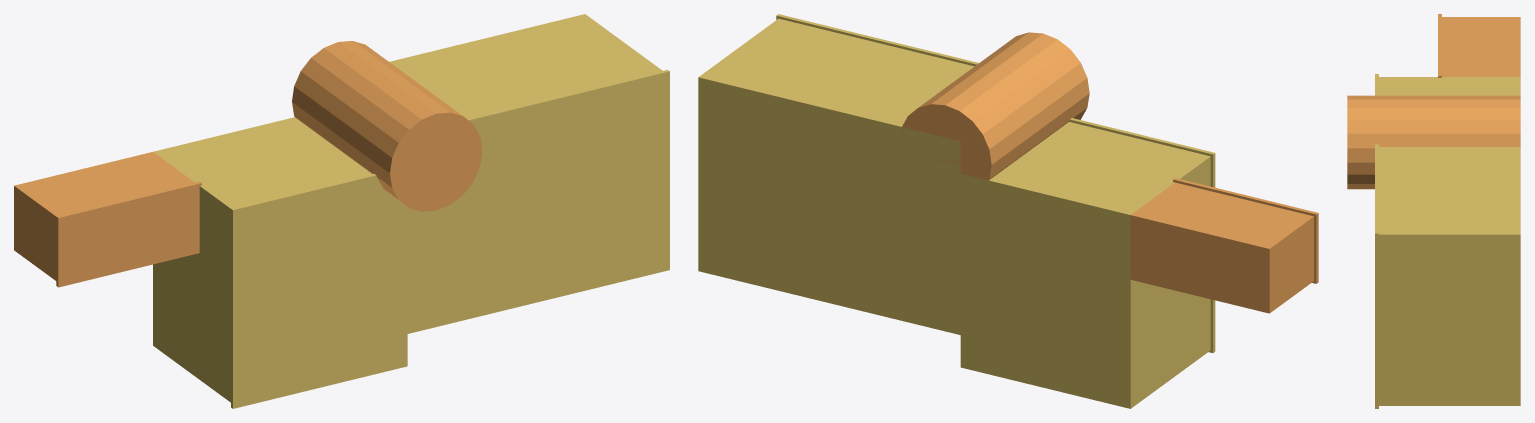
File: modelo.obj
3 renders of one model, left to right at view 1: azimuth 30°, elevation 25°; view 2: azimuth 150°, elevation 25°; view 3: azimuth 270°, elevation 25°, orthographic. The views are drawn at different scales.
Parts seen in each view (by area): view 1: cuerpo_B_cornisa_3, cuerpo_A_cornisa_1, cuerpo_A_0, remate_curvo_6, cuerpo_B_2, conexion_cornisa_5, conexion_4; view 2: cuerpo_B_2, cuerpo_A_0, conexion_4, remate_curvo_6, cuerpo_A_cornisa_1, conexion_cornisa_5, cuerpo_B_cornisa_3; view 3: cuerpo_B_2, remate_curvo_6, conexion_4, cuerpo_A_0, cuerpo_B_cornisa_3, conexion_cornisa_5.
Part boxes in pixels (x1,y1,x2,y2): cuerpo_B_cornisa_3: (403,69,669,333); cuerpo_A_cornisa_1: (231,174,407,408); cuerpo_A_0: (153,117,371,402); remate_curvo_6: (292,41,482,211); cuerpo_B_2: (389,14,662,118); conexion_cornisa_5: (56,181,201,287); conexion_4: (14,152,194,280); cuerpo_B_2: (698,18,974,334); cuerpo_A_0: (960,122,1210,408); conexion_4: (1130,182,1313,313); remate_curvo_6: (899,32,1089,191); cuerpo_A_cornisa_1: (1069,118,1215,352); conexion_cornisa_5: (1173,178,1318,283); cuerpo_B_cornisa_3: (776,14,978,66); cuerpo_B_2: (1379,147,1520,405); remate_curvo_6: (1347,95,1520,189); conexion_4: (1442,17,1520,76); cuerpo_A_0: (1379,77,1520,95); cuerpo_B_cornisa_3: (1375,144,1378,408); conexion_cornisa_5: (1438,14,1441,77).
Size of the model in its own units: 37.3 by 16.15 by 11.
